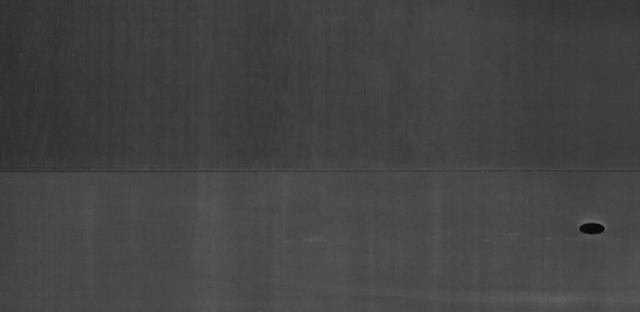punching_hole: (570, 213, 611, 242)
welding_line: (0, 163, 639, 180)
